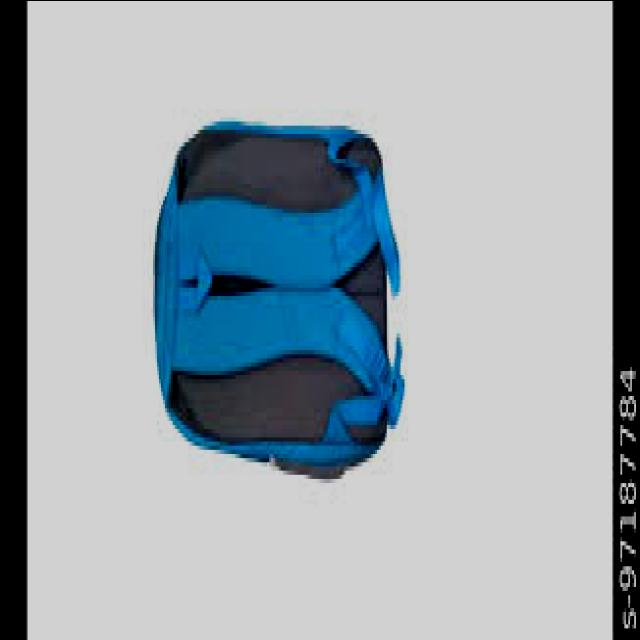backpack: (152, 122, 406, 484)
